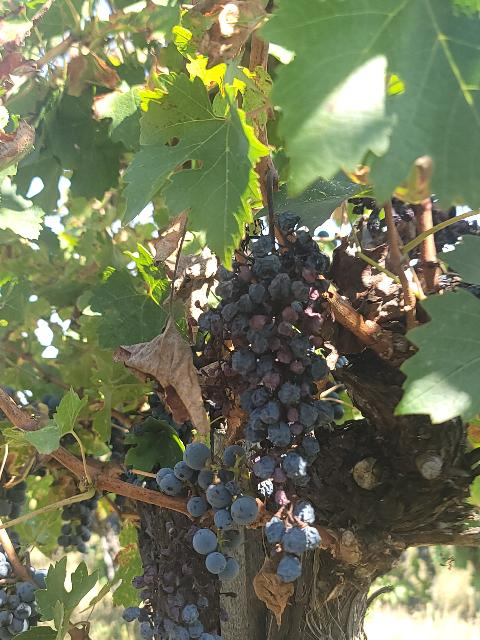grapes: (199, 215, 340, 490), (156, 442, 259, 581)
